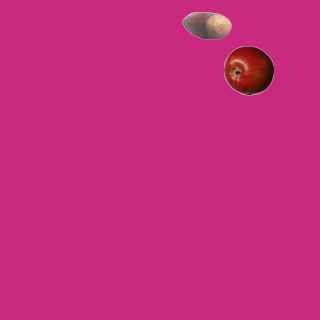Apple Braeburn: (223, 45, 273, 95)
Hazelnut: (181, 0, 231, 50)
